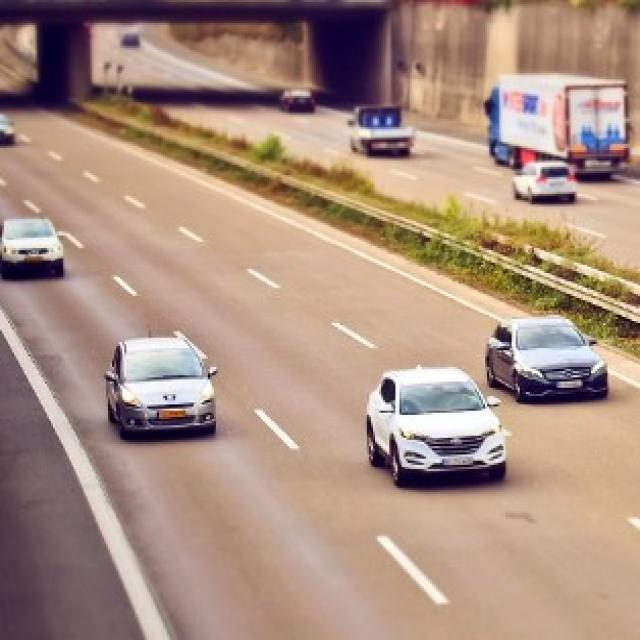car: (363, 365, 508, 489), (104, 334, 220, 442), (484, 314, 610, 404), (0, 214, 67, 279), (511, 159, 579, 207)
truck: (484, 72, 632, 180), (348, 103, 416, 160)
